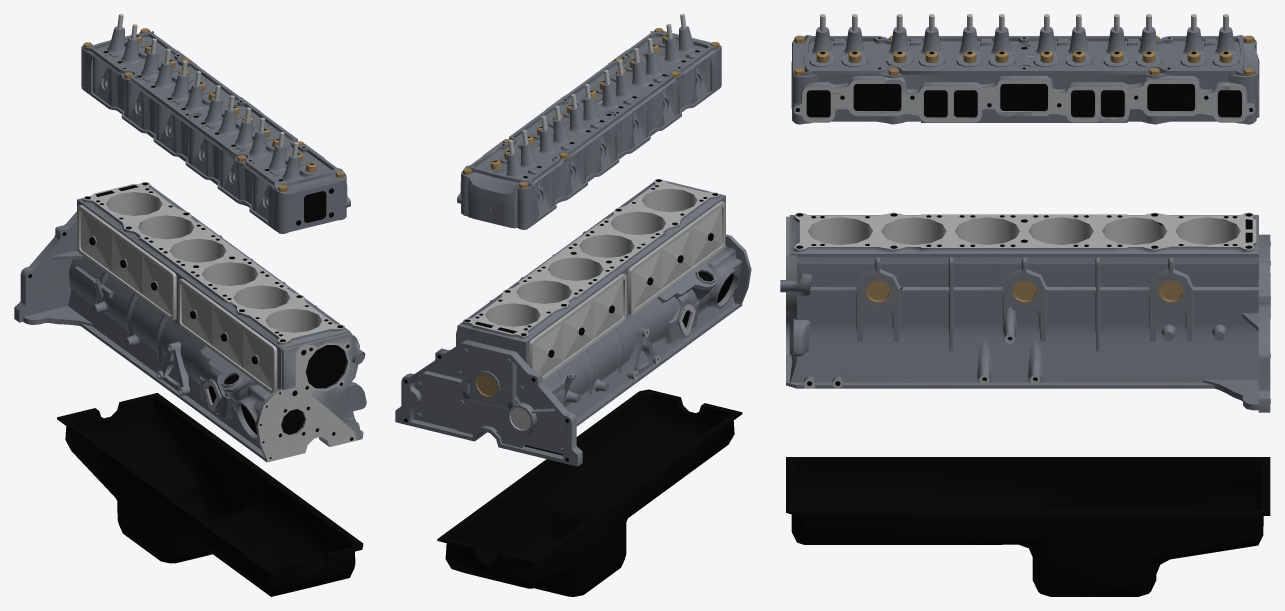
Rendered from tcc-fundamentos-basico.glb.
3 renders of one model, left to right at view 1: azimuth 30°, elevation 25°; view 2: azimuth 150°, elevation 25°; view 3: azimuth 270°, elevation 25°, orthographic. The views are drawn at different scales.
Visible parts, largest first — view 1: bloco, carter, cabecote; view 2: bloco, carter, cabecote; view 3: bloco, carter, cabecote.
Boxes of the visible parts, x1,y1,x2,y2 form: bloco: [14, 182, 366, 462]; carter: [57, 393, 363, 596]; cabecote: [81, 14, 350, 233]; bloco: [395, 179, 751, 466]; carter: [437, 389, 742, 596]; cabecote: [457, 14, 721, 229]; bloco: [780, 212, 1270, 412]; carter: [786, 457, 1270, 596]; cabecote: [791, 14, 1259, 124].
Size of the model in its own units: 0.3583 by 0.8969 by 0.7112.
Materials: 2 (2 with a texture image).
